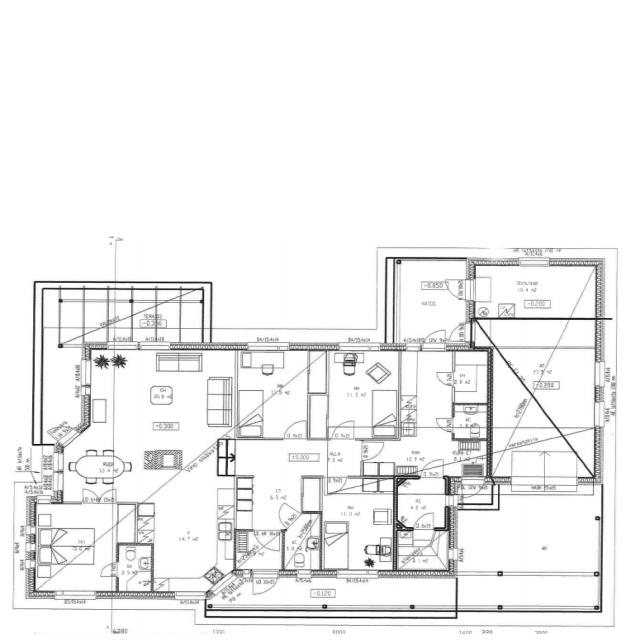door: (250, 569, 280, 596), (252, 529, 282, 554), (420, 328, 447, 352), (281, 418, 309, 441), (80, 486, 114, 504), (359, 439, 385, 462), (444, 278, 470, 301), (329, 420, 357, 441), (417, 459, 446, 479), (411, 511, 437, 531), (277, 504, 300, 525), (451, 322, 472, 344), (463, 478, 483, 500), (432, 370, 456, 388), (326, 474, 347, 494), (434, 416, 454, 434), (97, 562, 118, 578), (294, 568, 313, 584)
window: (508, 485, 582, 498), (51, 447, 67, 490), (132, 339, 177, 353), (52, 588, 98, 600), (245, 342, 291, 354), (336, 342, 382, 353), (334, 568, 374, 580), (104, 340, 140, 352), (458, 568, 500, 578), (80, 358, 93, 390), (171, 590, 208, 601), (590, 399, 604, 428), (591, 359, 604, 390), (517, 258, 550, 268), (53, 468, 65, 493), (294, 569, 313, 584), (54, 450, 66, 473), (402, 342, 420, 353), (446, 547, 455, 562)
zone: (107, 346, 223, 553), (94, 351, 233, 435), (231, 441, 321, 527), (318, 349, 400, 434), (320, 479, 394, 573), (236, 349, 310, 439), (394, 259, 469, 345), (472, 265, 596, 317), (35, 502, 105, 566), (398, 349, 453, 430), (394, 478, 447, 528), (395, 529, 449, 570), (283, 513, 320, 572), (452, 349, 488, 404), (116, 544, 152, 594), (325, 439, 363, 478), (452, 402, 488, 440), (75, 453, 116, 483)
